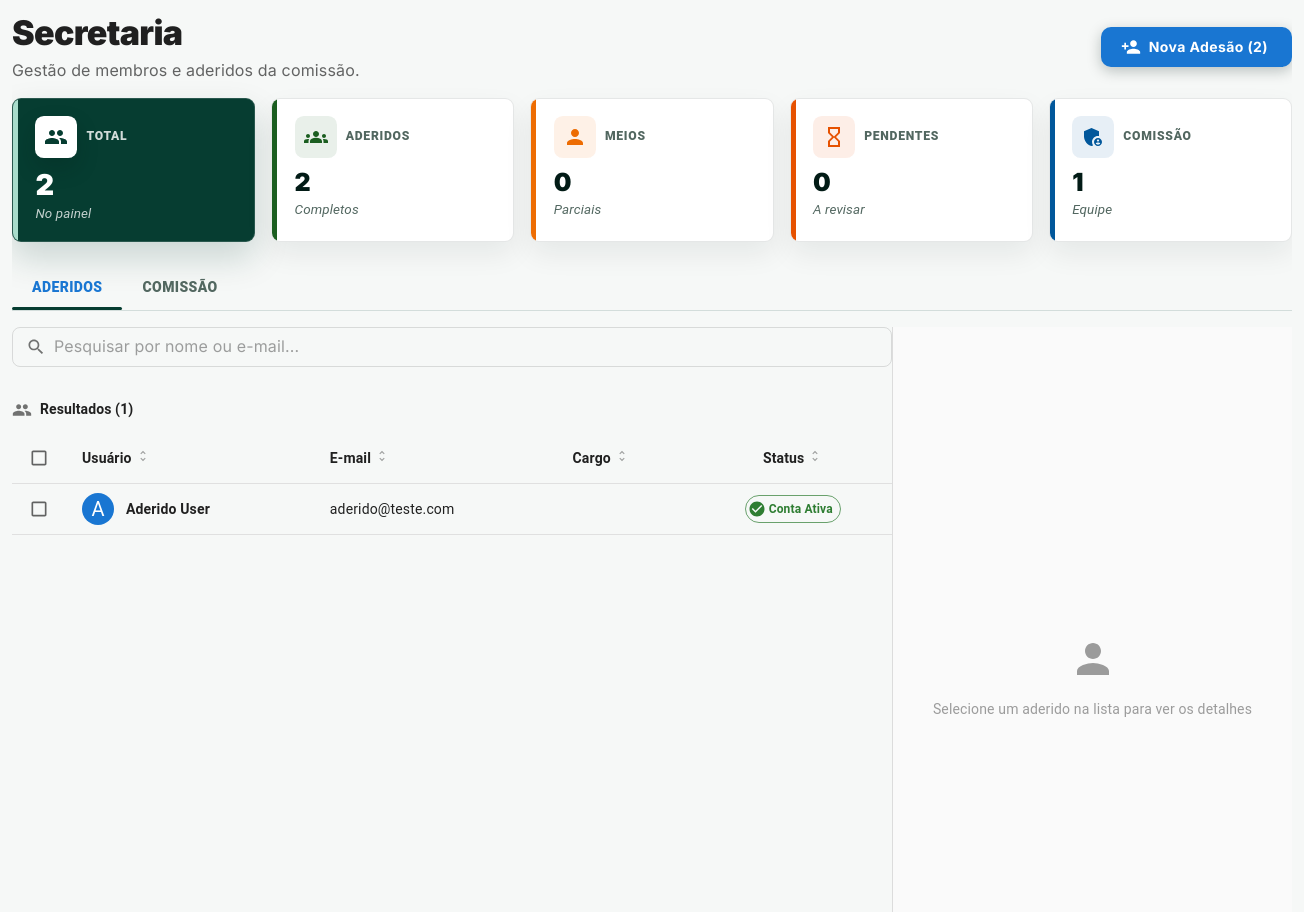
Test: Página <SecretariaView /> › Deve iniciar na aba Aderidos e alternar para Comissão
Expected: the text "Aderido User" is shown, [126,498,210,518]
Expected: the text "Admin User" is not shown
What coordinates should you click on to do the following:
click the tab "Comissão"
I would click on:
 (180, 288)
Its box is [122,266,238,310].
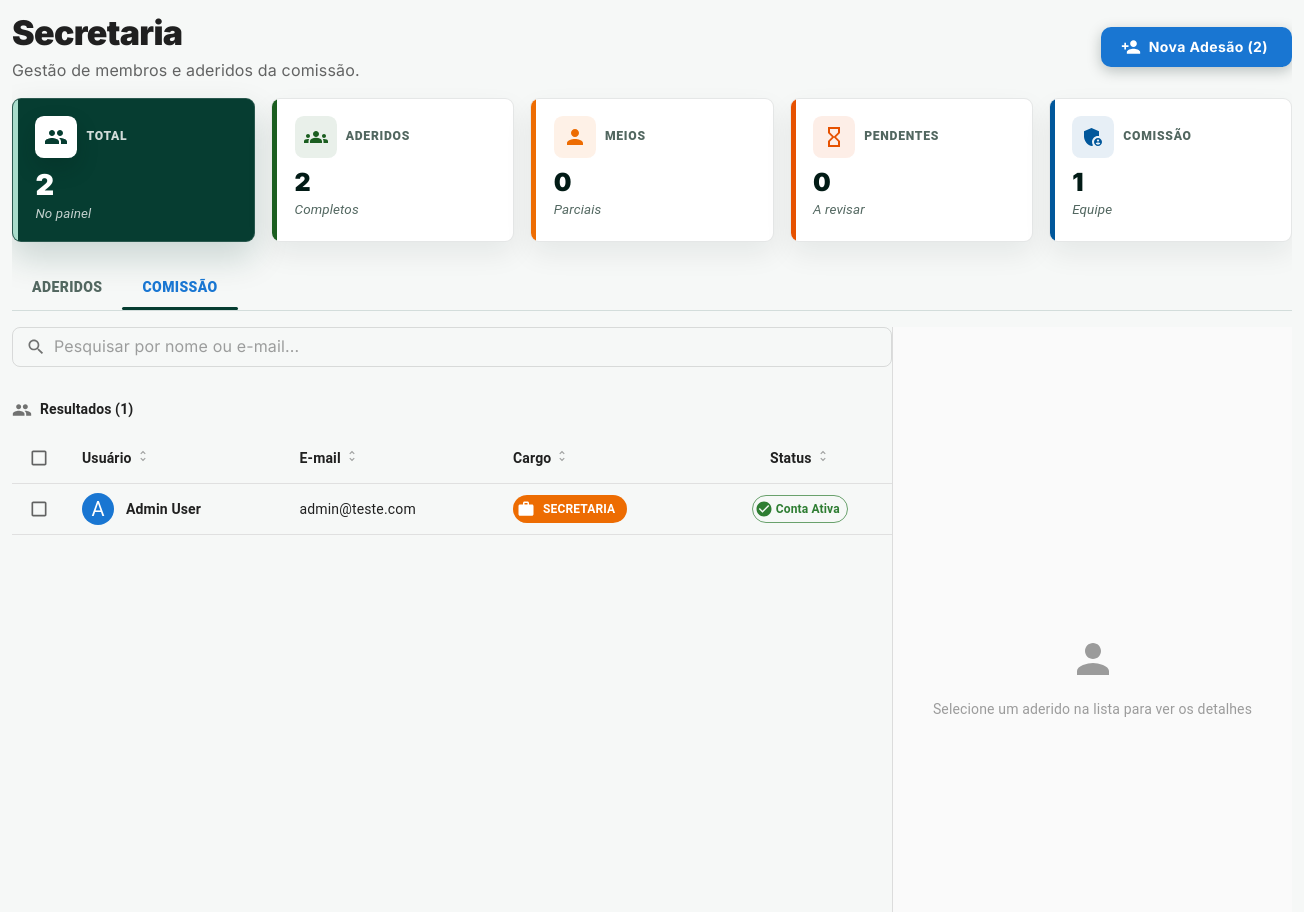
Now the text "Admin User" is shown, box [126,498,201,518]
Now the text "Aderido User" is gone
